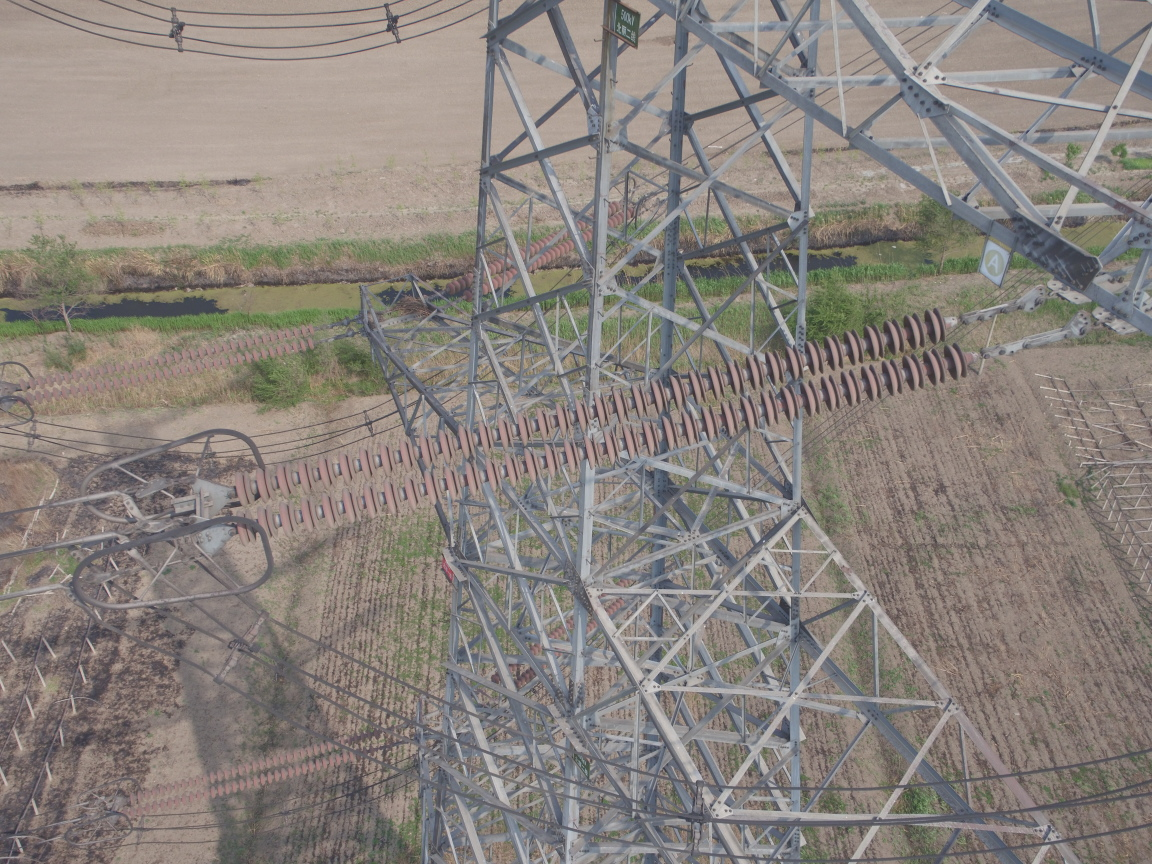insulator: (238, 300, 991, 547), (14, 319, 332, 406), (117, 724, 405, 819)
